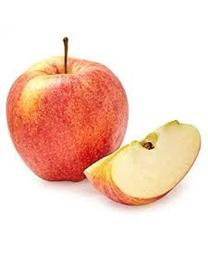apple: (4, 38, 129, 182), (84, 120, 201, 207)
